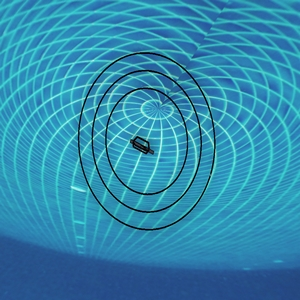circle: (76, 47, 224, 233)
submarine: (131, 136, 151, 156)
